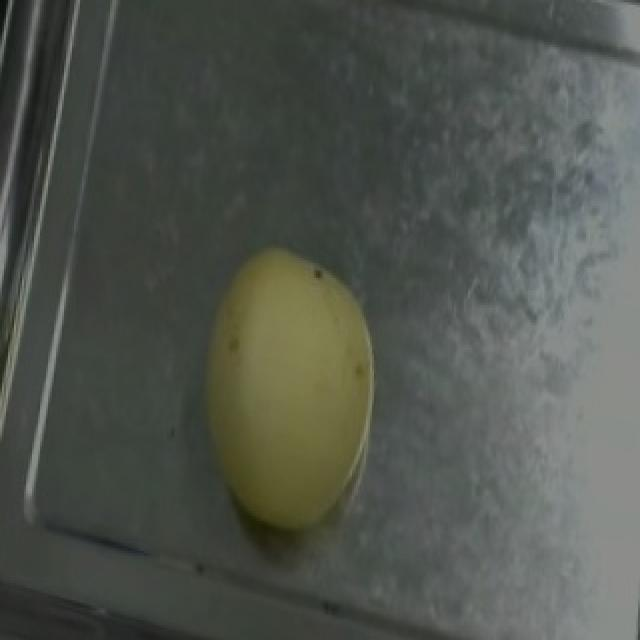Fruit: (162, 223, 408, 558)
